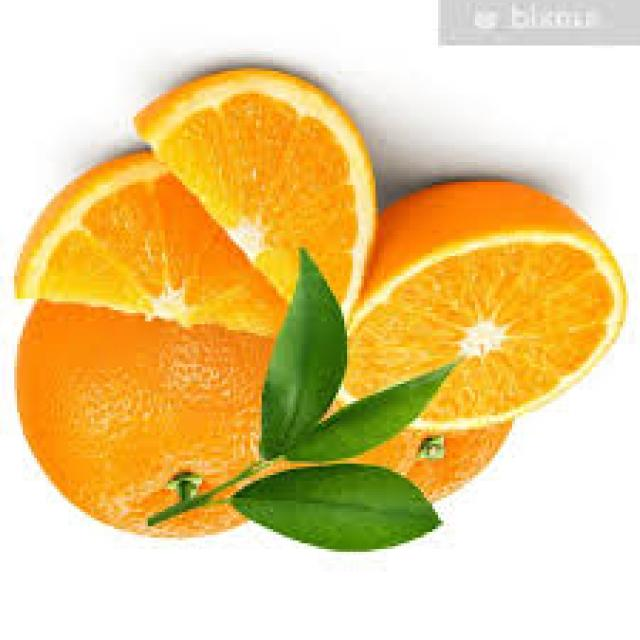orange: (6, 275, 334, 535)
